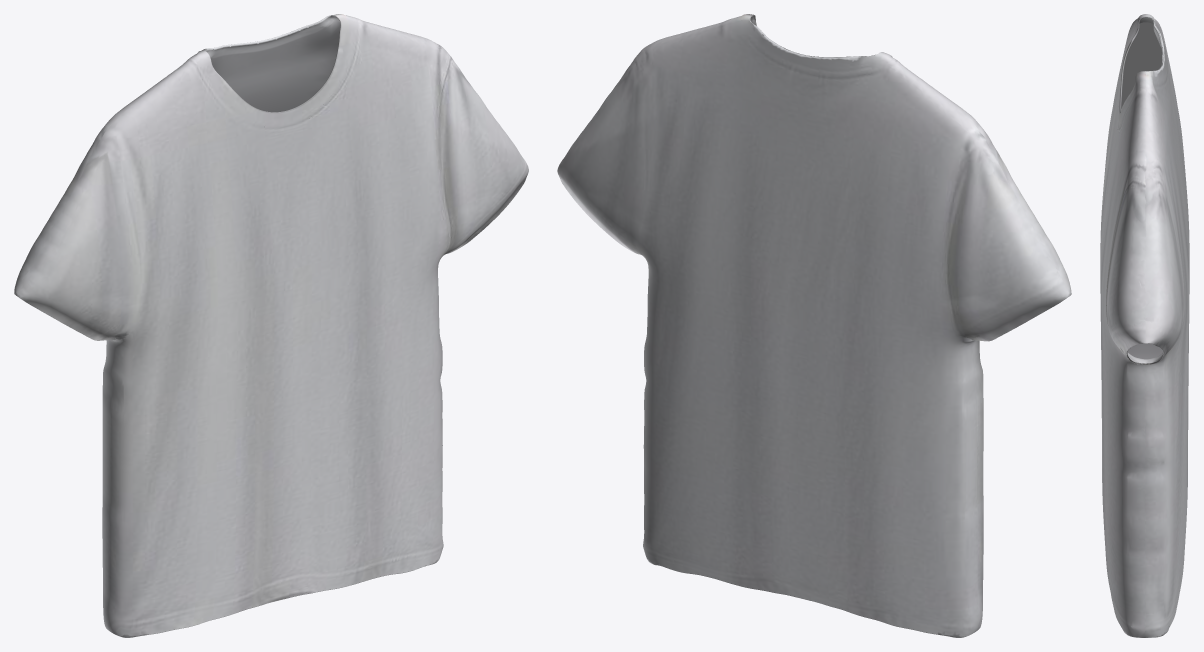
The model's file is tshirt_white.glb.
3 renders of one model, left to right at view 1: azimuth 30°, elevation 25°; view 2: azimuth 150°, elevation 25°; view 3: azimuth 270°, elevation 25°, orthographic. The views are drawn at different scales.
Parts seen in each view (by area): view 1: body; view 2: body; view 3: body.
Boxes of the visible parts, box(x1,y1,x2,y2) form: body: box(14, 14, 528, 637); body: box(557, 14, 1071, 637); body: box(1100, 14, 1189, 637).
Size of the model in its own units: 0.8131 by 0.8544 by 0.1322.
Materials: 5 (3 with a texture image).
